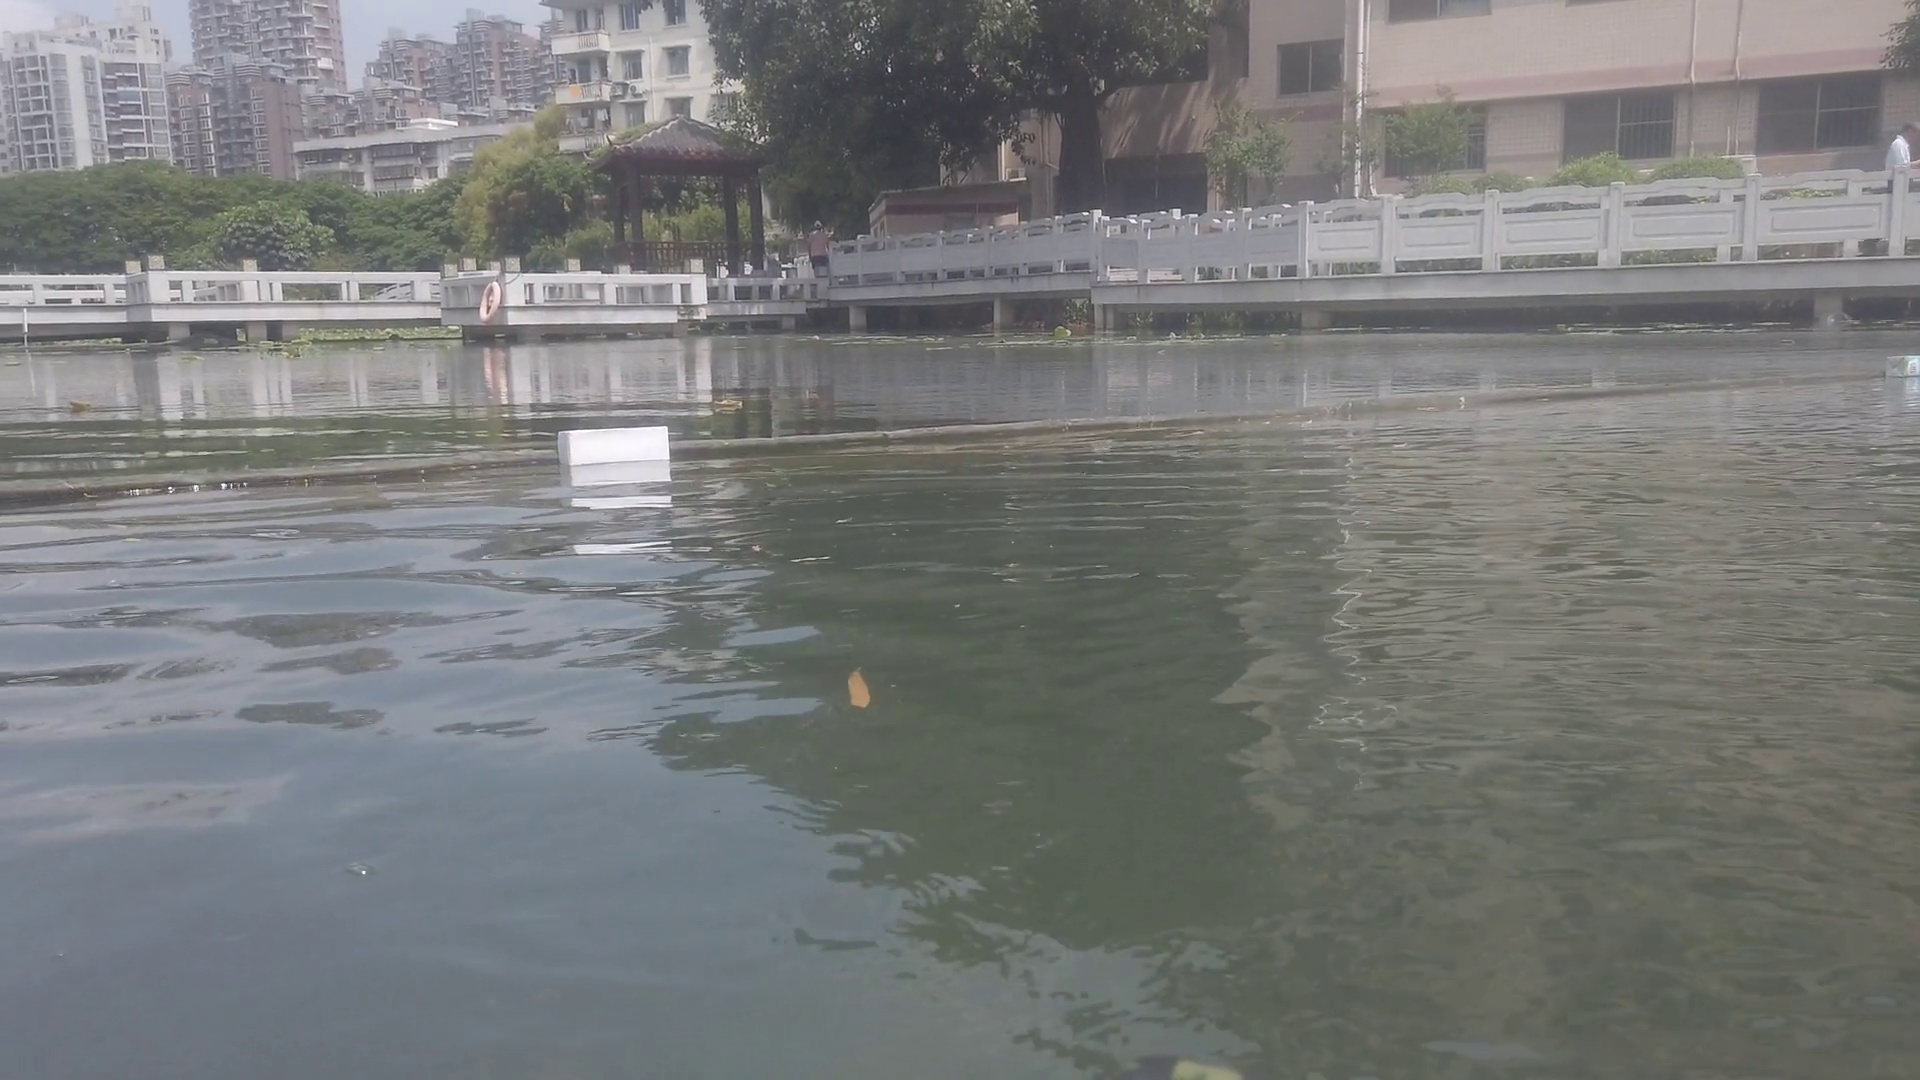carton: (554, 421, 676, 465), (1884, 351, 1920, 380)
